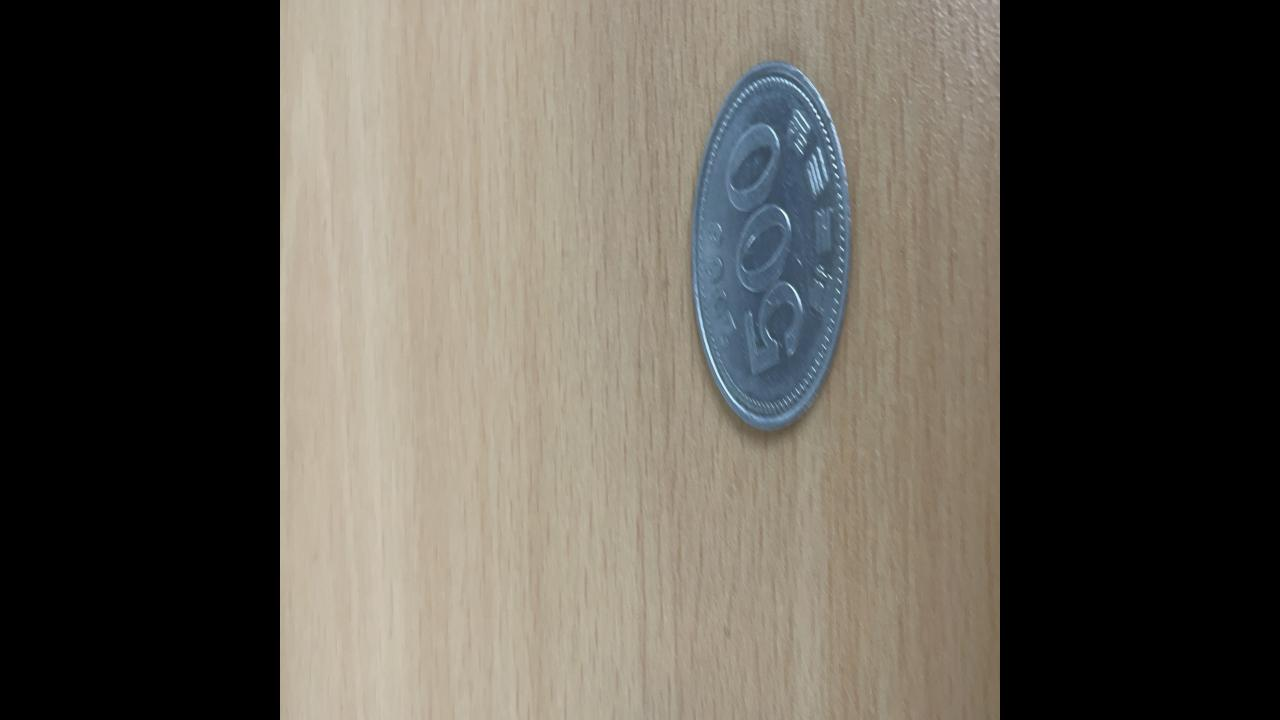coin: (691, 54, 855, 440)
